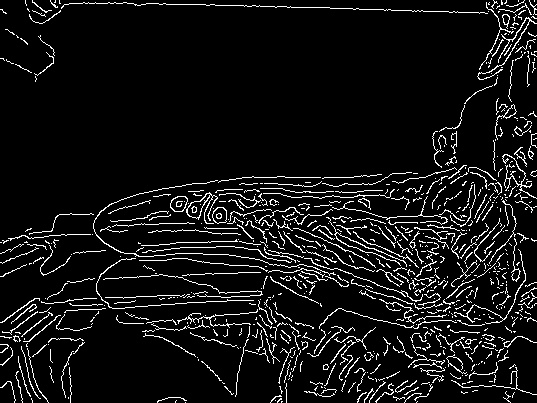cucumber: (85, 162, 527, 332)
